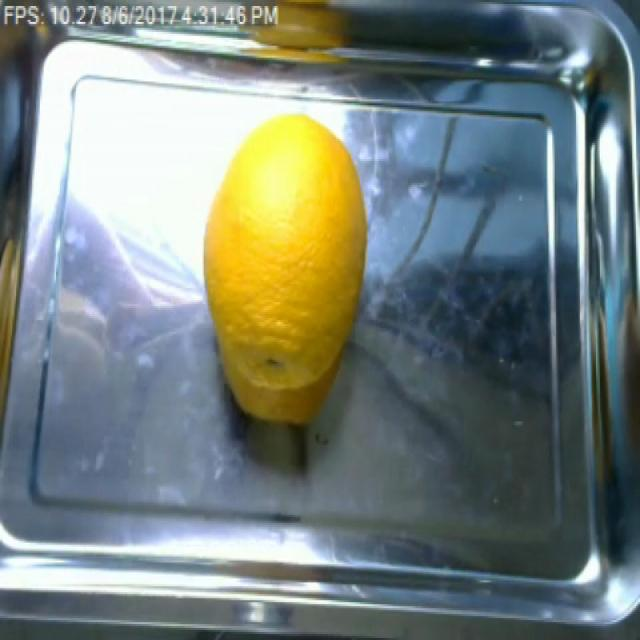Fruit: (193, 110, 371, 430)
